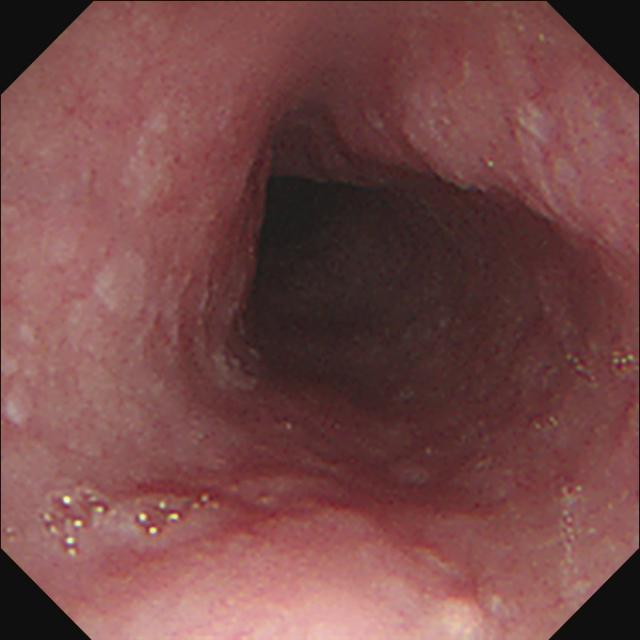E: (224, 129, 461, 374)
T: (37, 490, 210, 558)
